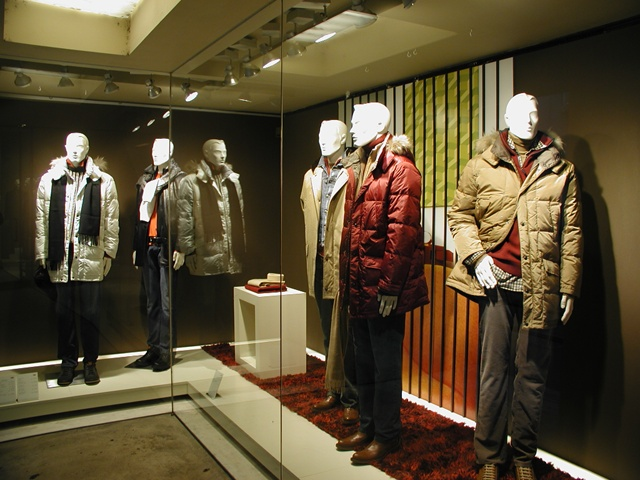person: (455, 92, 585, 475), (339, 103, 432, 463), (38, 130, 122, 384)
